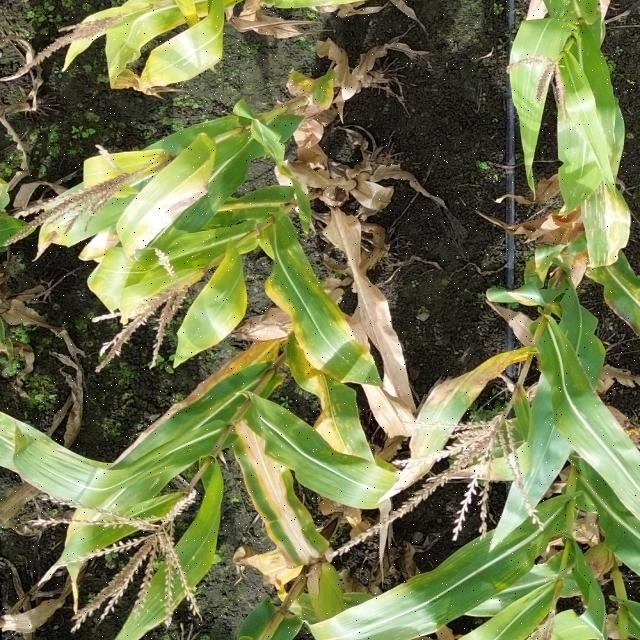gray-leaf-spot: (558, 104, 640, 304)
northern-leaf-blight: (261, 229, 393, 465), (221, 428, 339, 577), (376, 345, 532, 450), (99, 150, 203, 298), (100, 25, 220, 103), (172, 247, 249, 355)
